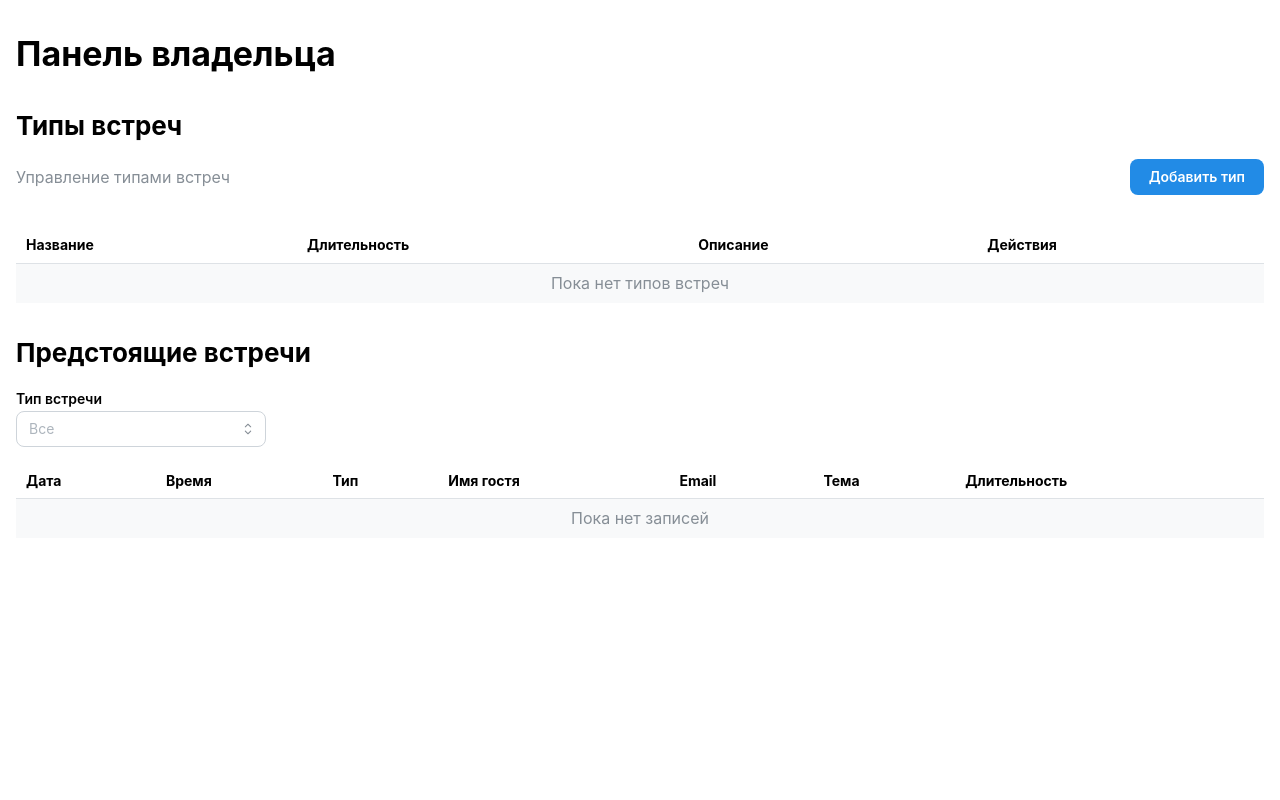
Scenario: sends durationMinutes as a number when creating a meeting type
This screenshot has width=1280, height=800.
Later steps or results of the test are not shown.
Click the button "Добавить тип".
click(1197, 177)  # box [1130,159,1264,195]
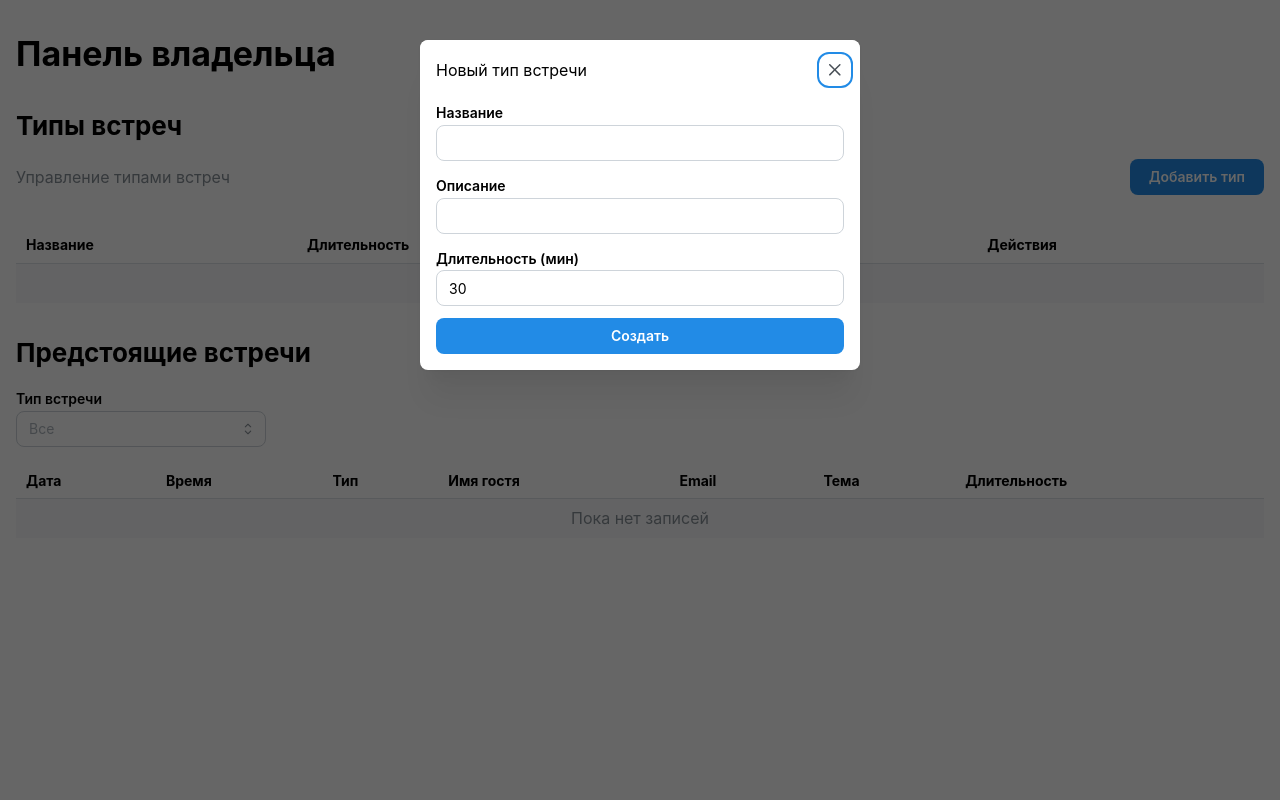
Check: the dialog is shown, box [420,40,860,370]
